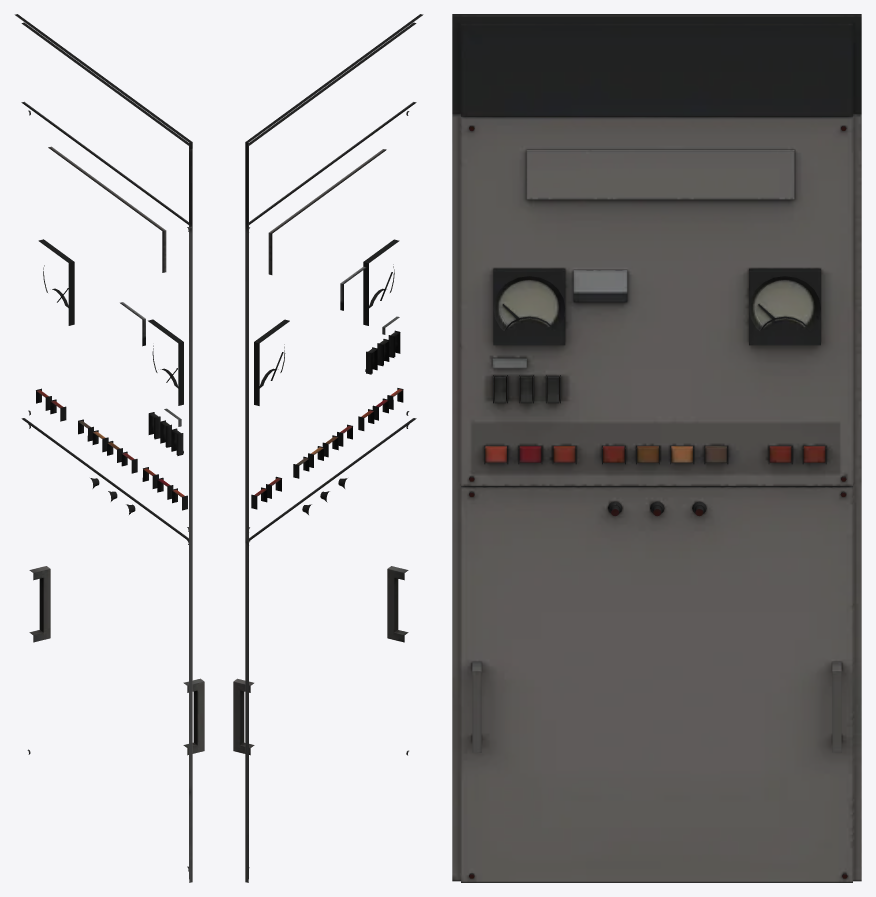
The picture shows the model from 3 angles, left to right: view 1: azimuth 30°, elevation 25°; view 2: azimuth 150°, elevation 25°; view 3: azimuth 270°, elevation 25°; orthographic projection. The views are drawn at different scales.
Parts seen in each view (by area): view 1: body0_model0_lod0_mesh0; view 2: body0_model0_lod0_mesh0; view 3: body0_model0_lod0_mesh0.
Part boxes in pixels (box(x1,y1,x2,y2)): body0_model0_lod0_mesh0: box(14, 14, 204, 882); body0_model0_lod0_mesh0: box(233, 14, 423, 882); body0_model0_lod0_mesh0: box(452, 14, 861, 882).
Bounding box in the file's own units: 3.76 × 112 × 47.99.
1 material, 1 textured.
